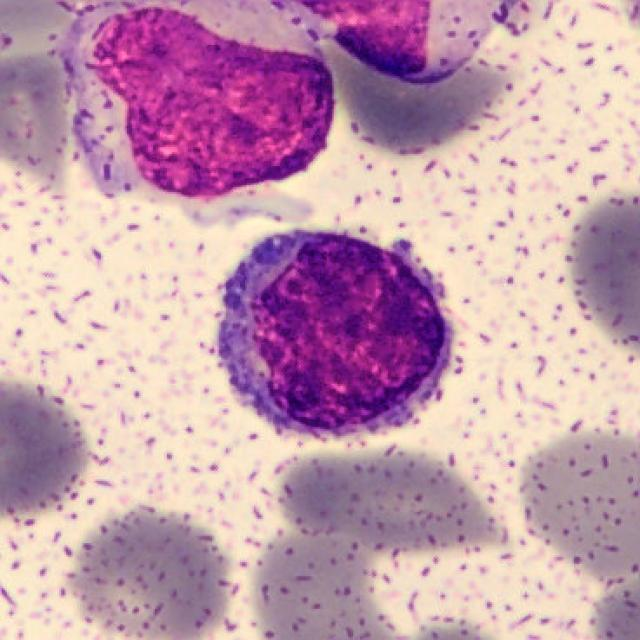Mieloblasto: (56, 5, 336, 201)
